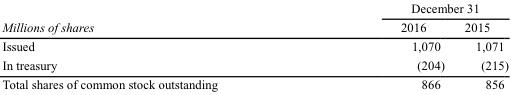table: (1, 0, 507, 91)
table column: (1, 0, 308, 91), (308, 0, 453, 91), (453, 0, 507, 91)
table column header: (1, 0, 507, 36)
table row: (1, 17, 507, 36), (1, 36, 507, 55), (1, 55, 507, 74), (1, 0, 507, 17), (1, 74, 507, 91)
table spanning cell: (1, 0, 308, 36), (308, 0, 507, 17)
